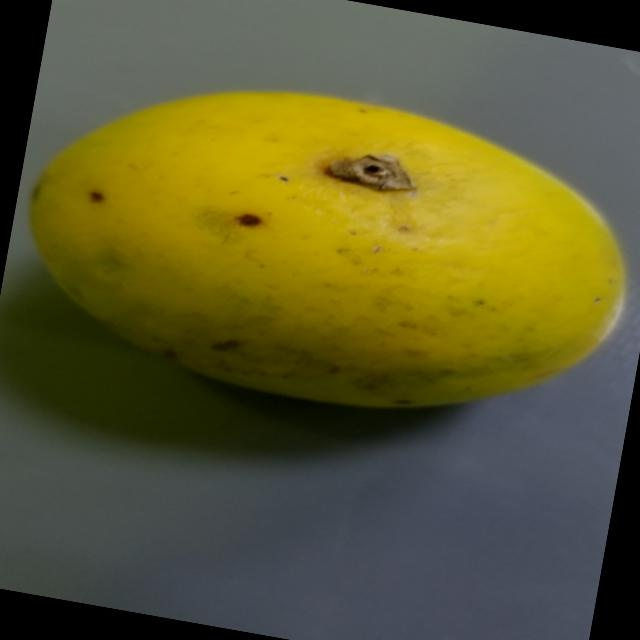agrume: (0, 46, 640, 464)
